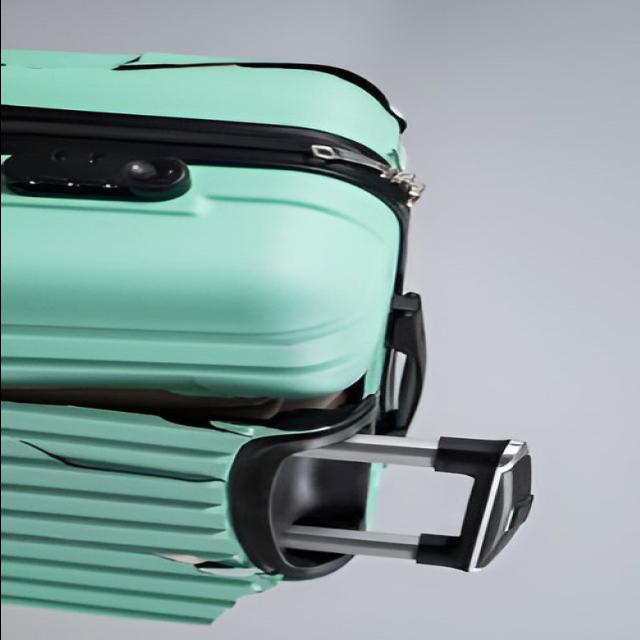Damage-bag: (116, 56, 406, 132), (3, 380, 363, 439), (17, 438, 219, 481), (157, 551, 264, 578)
